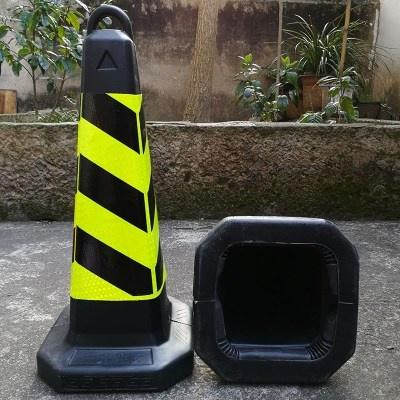cone_barrel: (41, 6, 188, 379)
